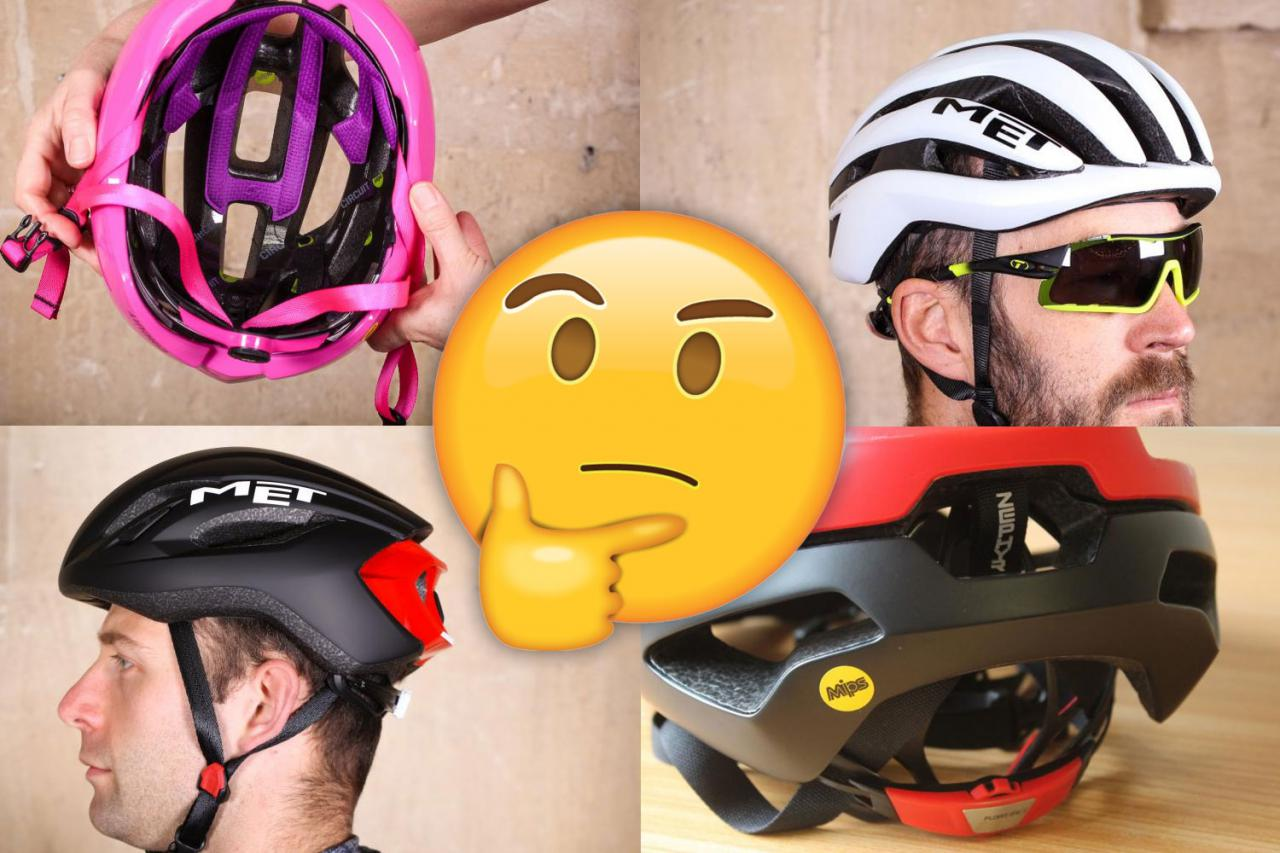helmet: (58, 447, 455, 853), (828, 31, 1222, 425)
